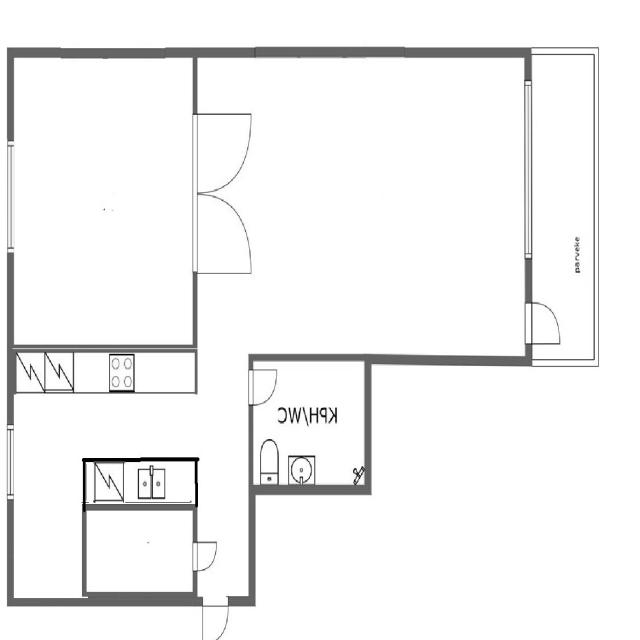door: (190, 101, 257, 285), (518, 297, 570, 350), (244, 359, 283, 410), (198, 592, 232, 640), (186, 532, 222, 576)
window: (517, 70, 540, 266), (1, 132, 20, 258), (2, 422, 16, 504)
zone: (227, 45, 513, 364), (11, 347, 253, 601), (11, 50, 198, 356), (248, 355, 369, 489), (83, 506, 196, 602), (86, 460, 198, 502)
